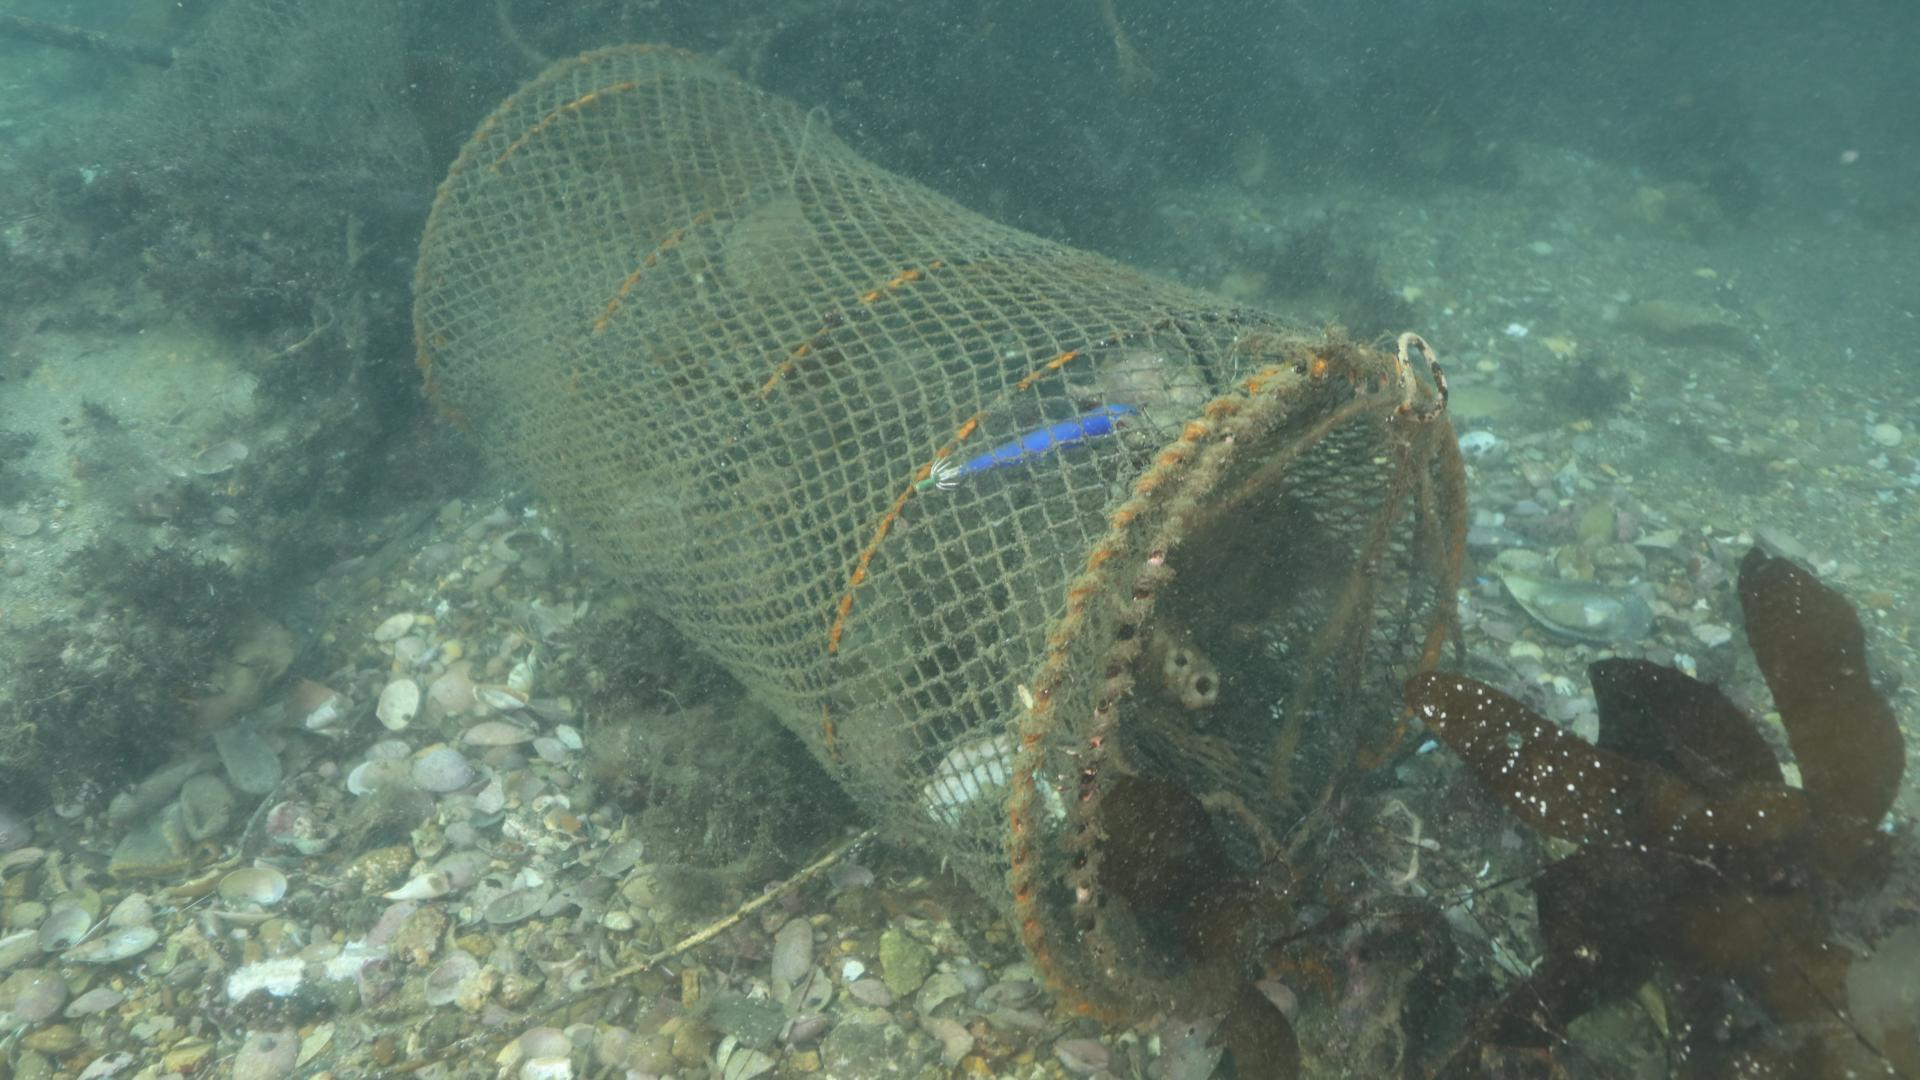spring fish trap: (409, 40, 1472, 1025)
